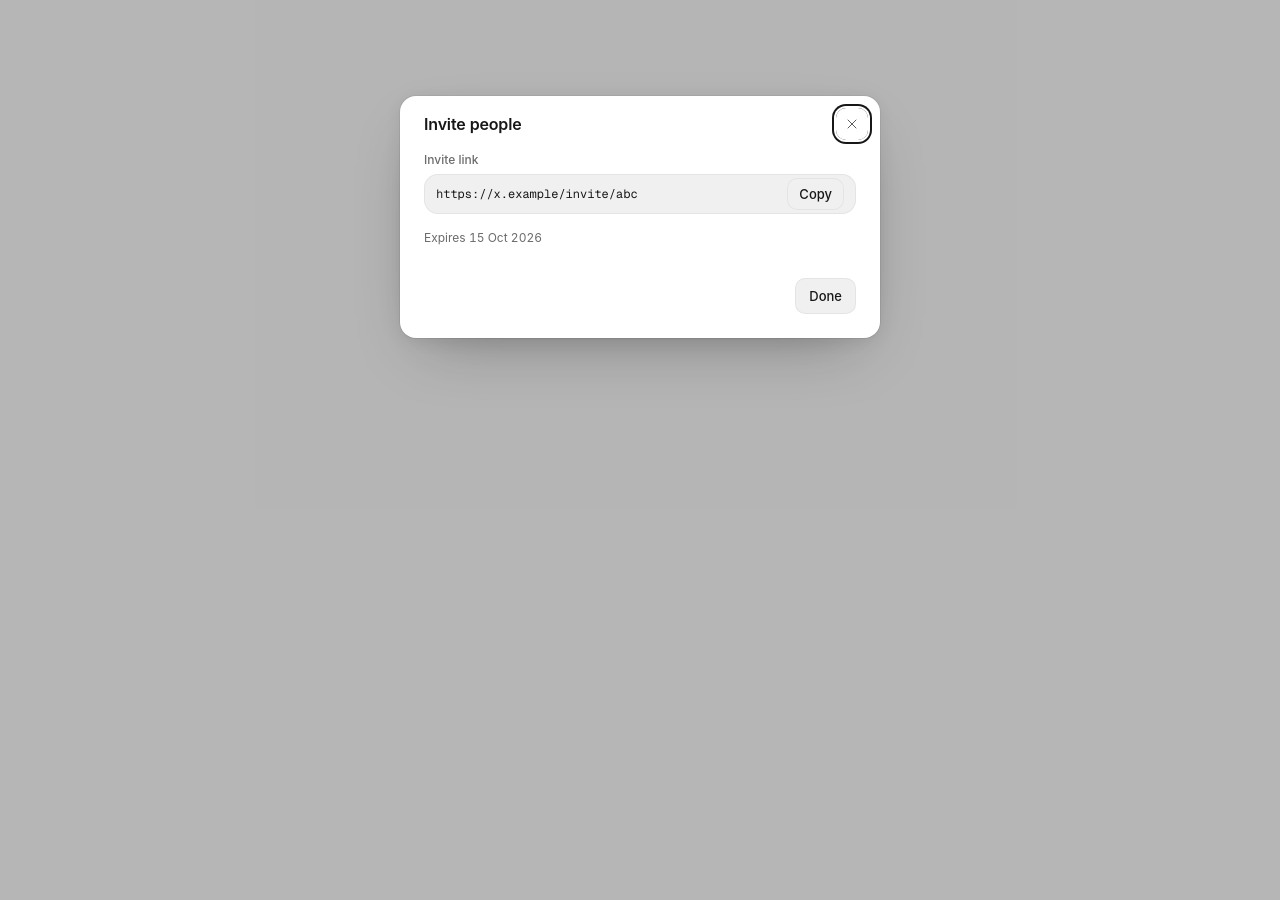
Test: InviteDialog › result state: read-only link, expiry and Copy
The image size is (1280, 900).
Expected: the field labelled "Invite link" holds "https://x.example/invite/abc", [436,174,779,214]
Expected: the text "Expires 15 Oct 2026" is shown, [424,230,542,245]
What coordinates should you click on to do the following:
click the button "Copy"
I would click on:
 (816, 194)
Its box is [787,178,844,210].
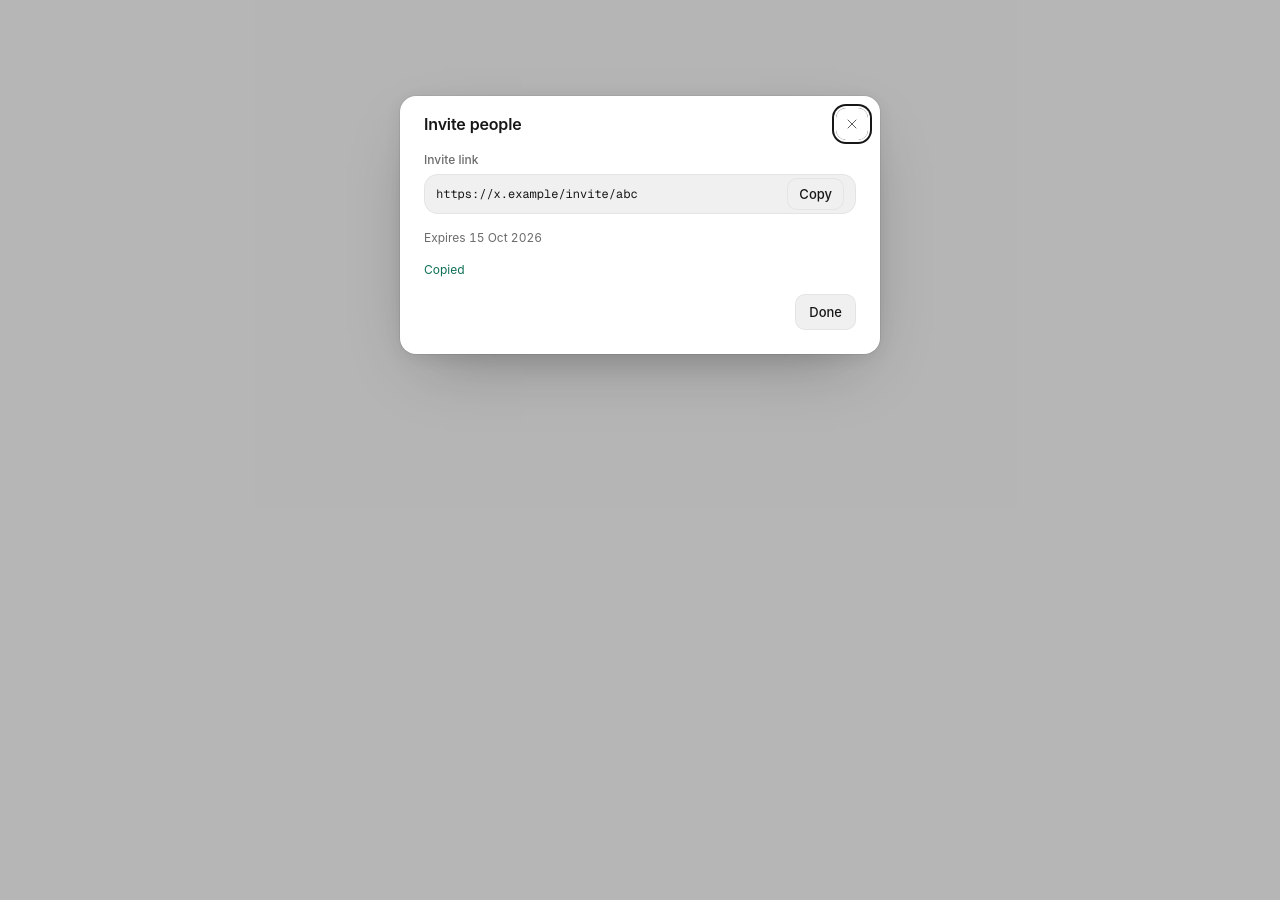
Now the text "Copied" is shown, box [424,262,465,277]
